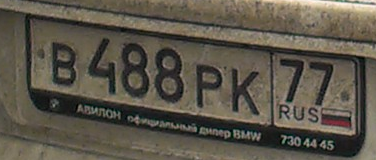character: (152, 38, 187, 108), (121, 36, 153, 103), (85, 36, 119, 99), (230, 66, 264, 119), (192, 64, 224, 114), (49, 40, 80, 90), (277, 56, 306, 106), (307, 59, 336, 107)
